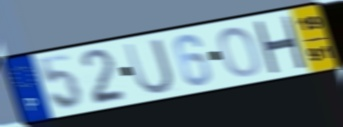2: (79, 47, 129, 107)
5: (34, 52, 87, 112)
6: (172, 32, 213, 88)
H: (252, 15, 308, 74)
O: (217, 25, 263, 79)
U: (121, 36, 176, 97)
